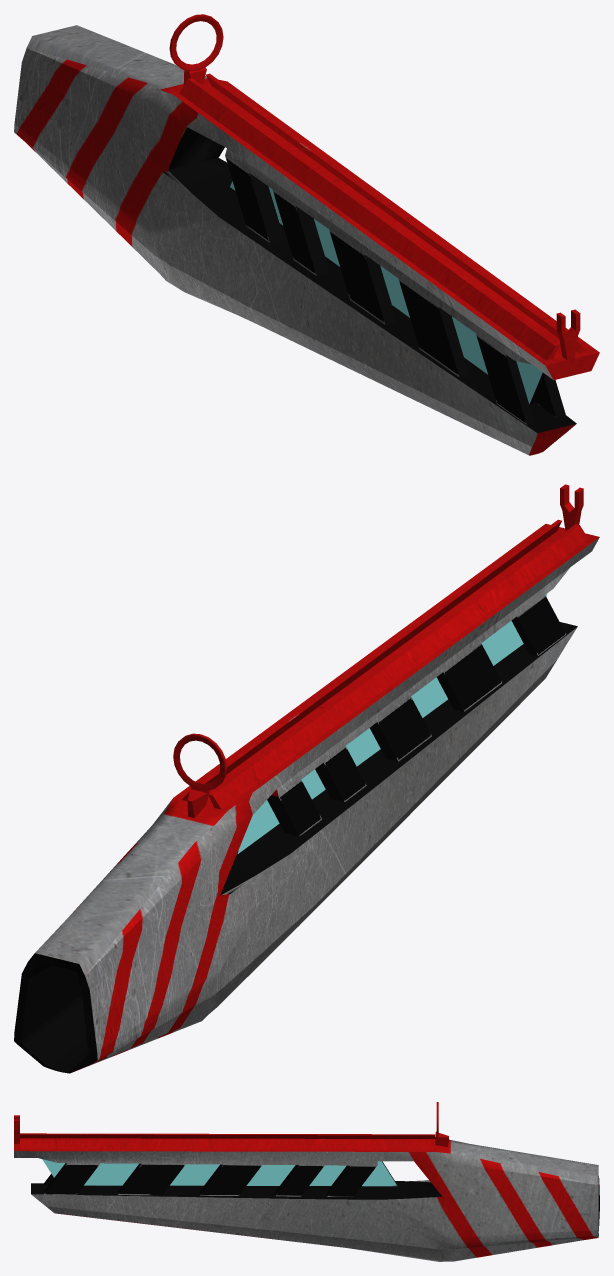
File: Textured Plasma Rifle.fbx
3 renders of one model, top to bottom at view 1: azimuth 30°, elevation 25°; view 2: azimuth 150°, elevation 25°; view 3: azimuth 270°, elevation 25°, orthographic. The views are drawn at different scales.
Parts seen in each view (by area): view 1: pCylinder6; view 2: pCylinder6; view 3: pCylinder6.
Boxes of the visible parts, <box> form: pCylinder6: <box>14,14,599,455</box>; pCylinder6: <box>14,484,599,1073</box>; pCylinder6: <box>14,1102,599,1261</box>.
Bounding box in the file's own units: 0.4391 × 1.38 × 4.71.
